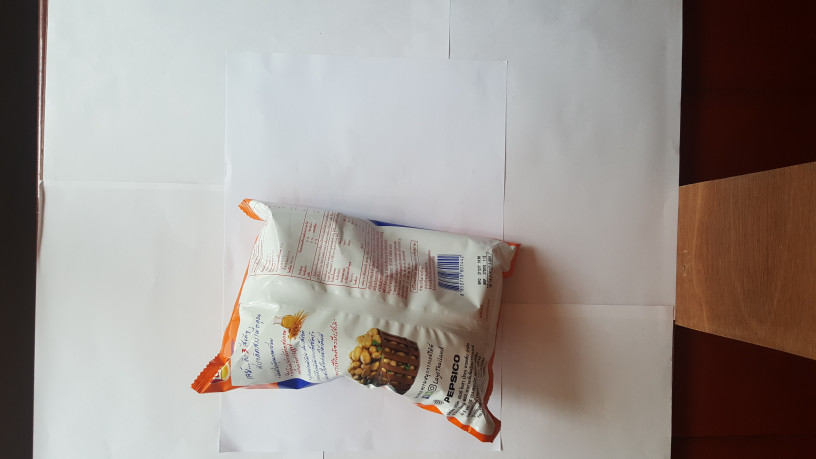lays-bbq: (189, 184, 535, 452)
